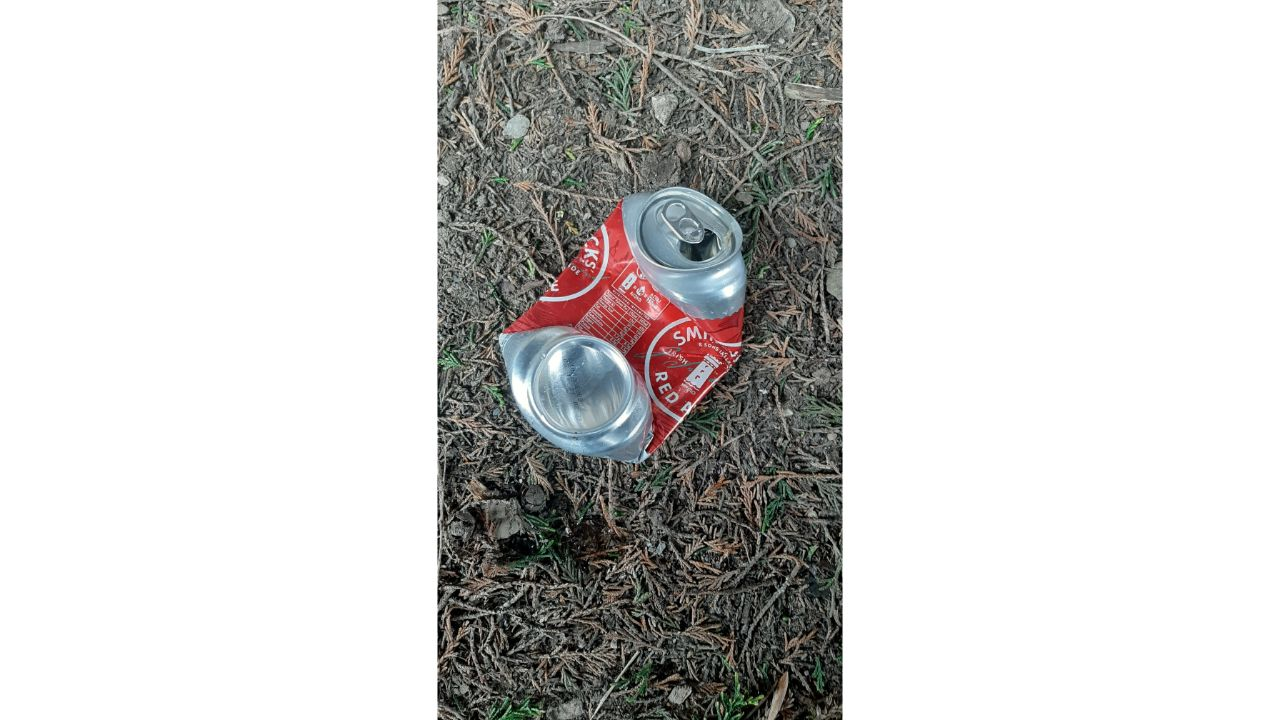Can: (493, 188, 749, 463)
